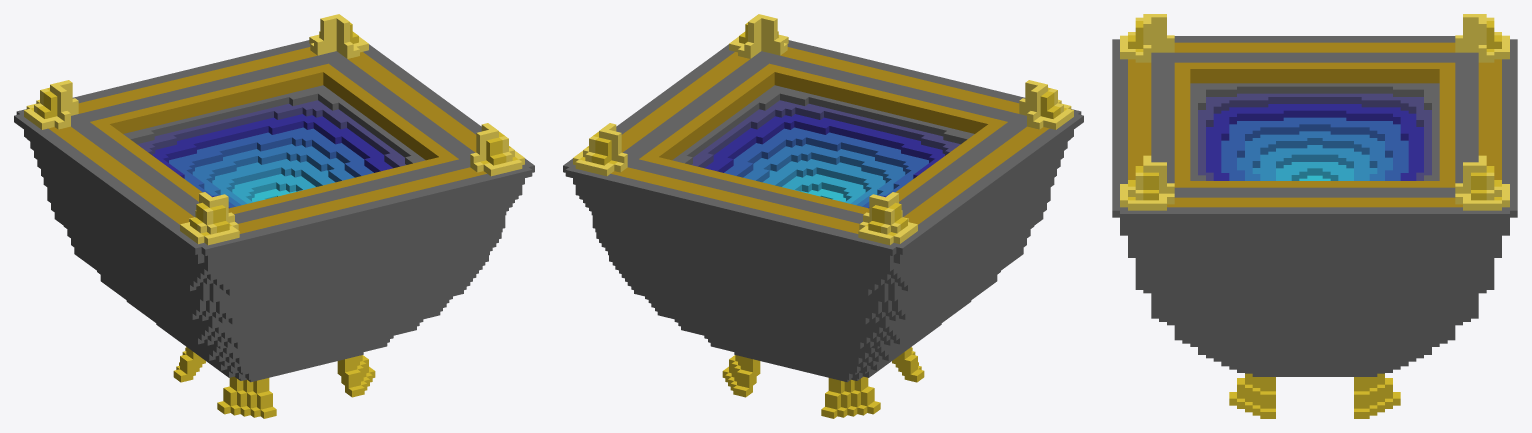
File: submit station.obj
The picture shows the model from 3 angles, left to right: view 1: azimuth 30°, elevation 25°; view 2: azimuth 150°, elevation 25°; view 3: azimuth 270°, elevation 25°; orthographic projection. The views are drawn at different scales.
Size of the model in its own units: 54 by 41 by 52.
Materials: 1 (1 with a texture image).
